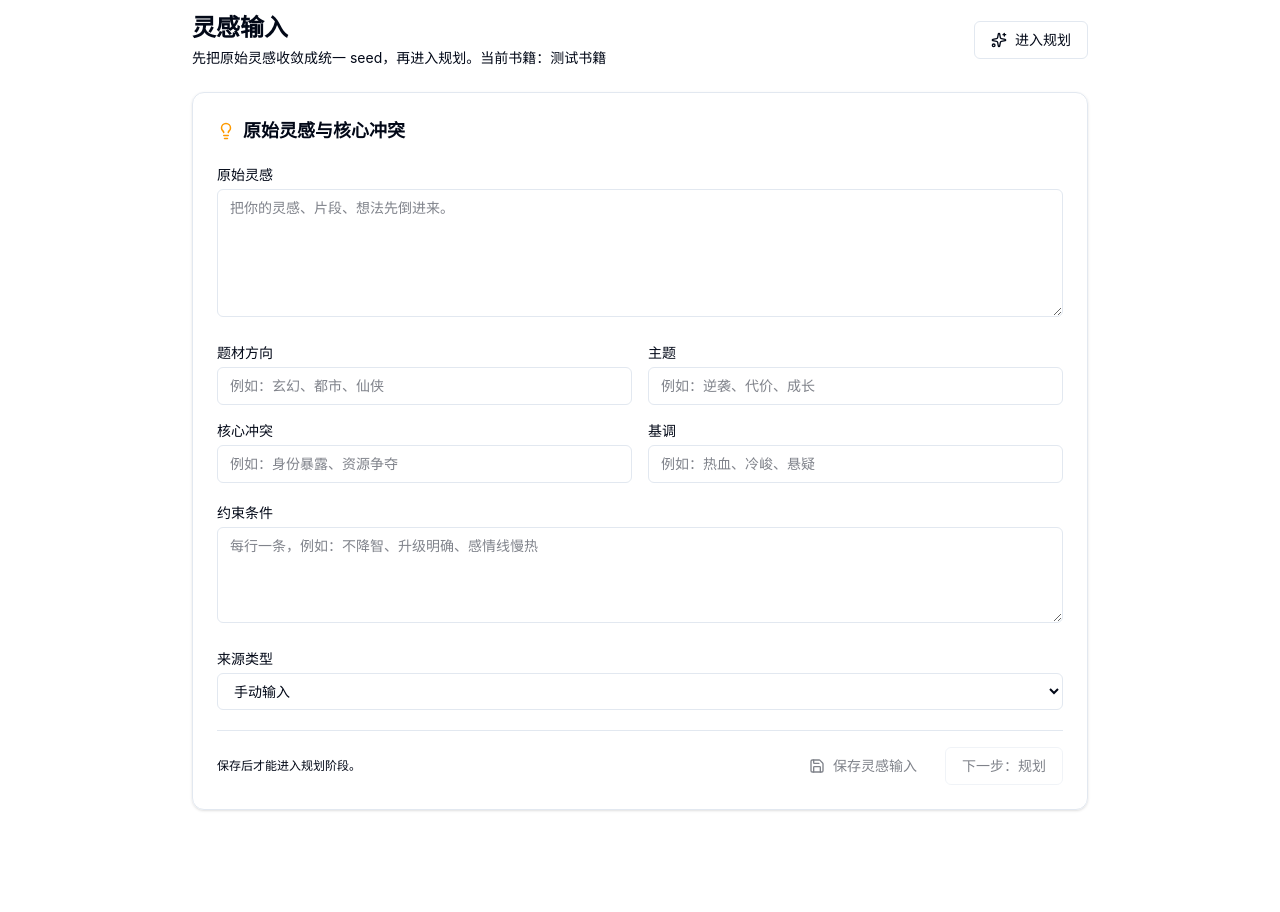
it: InspirationInput Page › creates inspiration seed and enables next step
Type "宗门天才暴露血脉" into the text box labelled "原始灵感".
click(640, 253); type("宗门天才暴露血脉")  # box [217,189,1063,317]
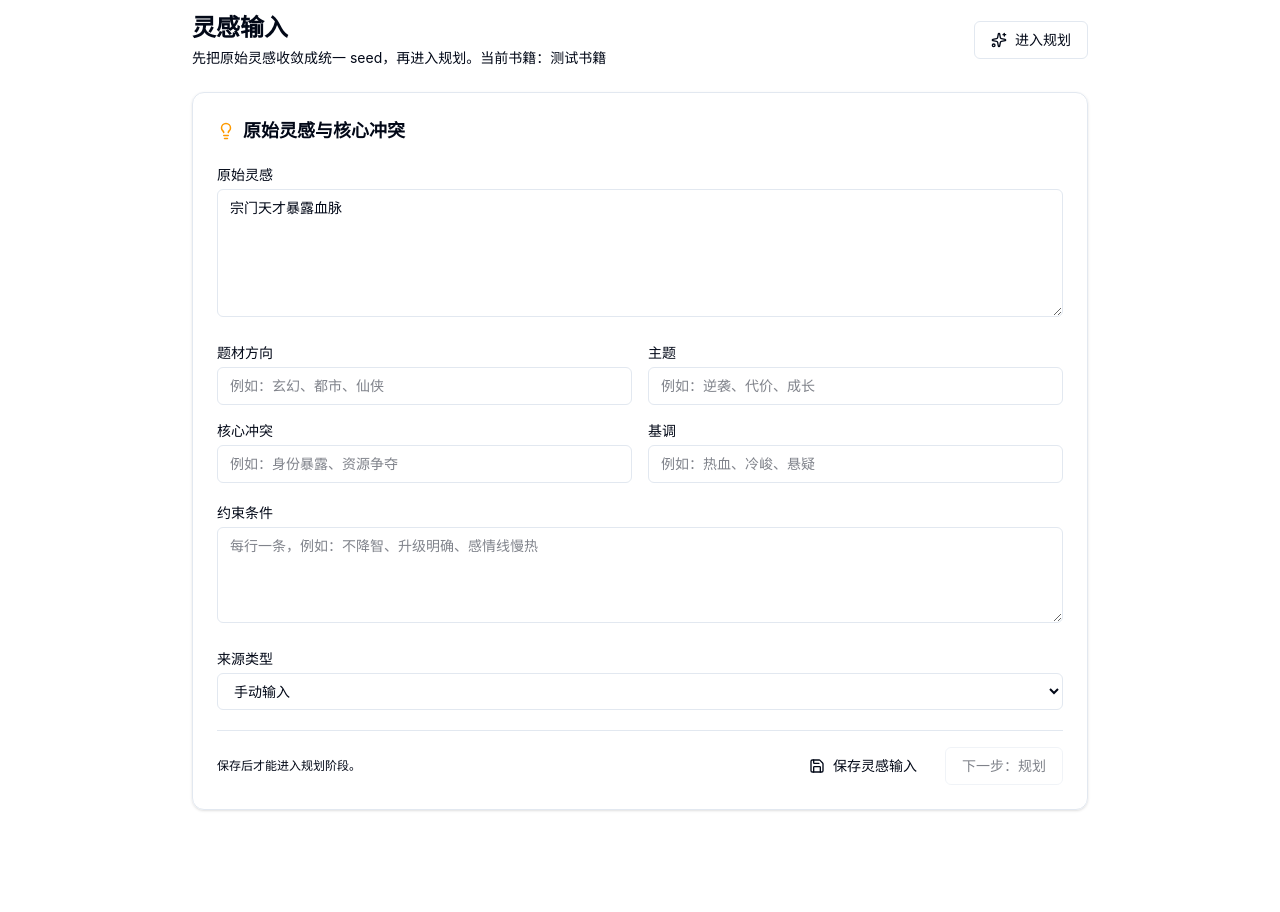
Type "玄幻" into the field labelled "题材方向".
click(424, 386); type("玄幻")  # box [217,367,632,405]
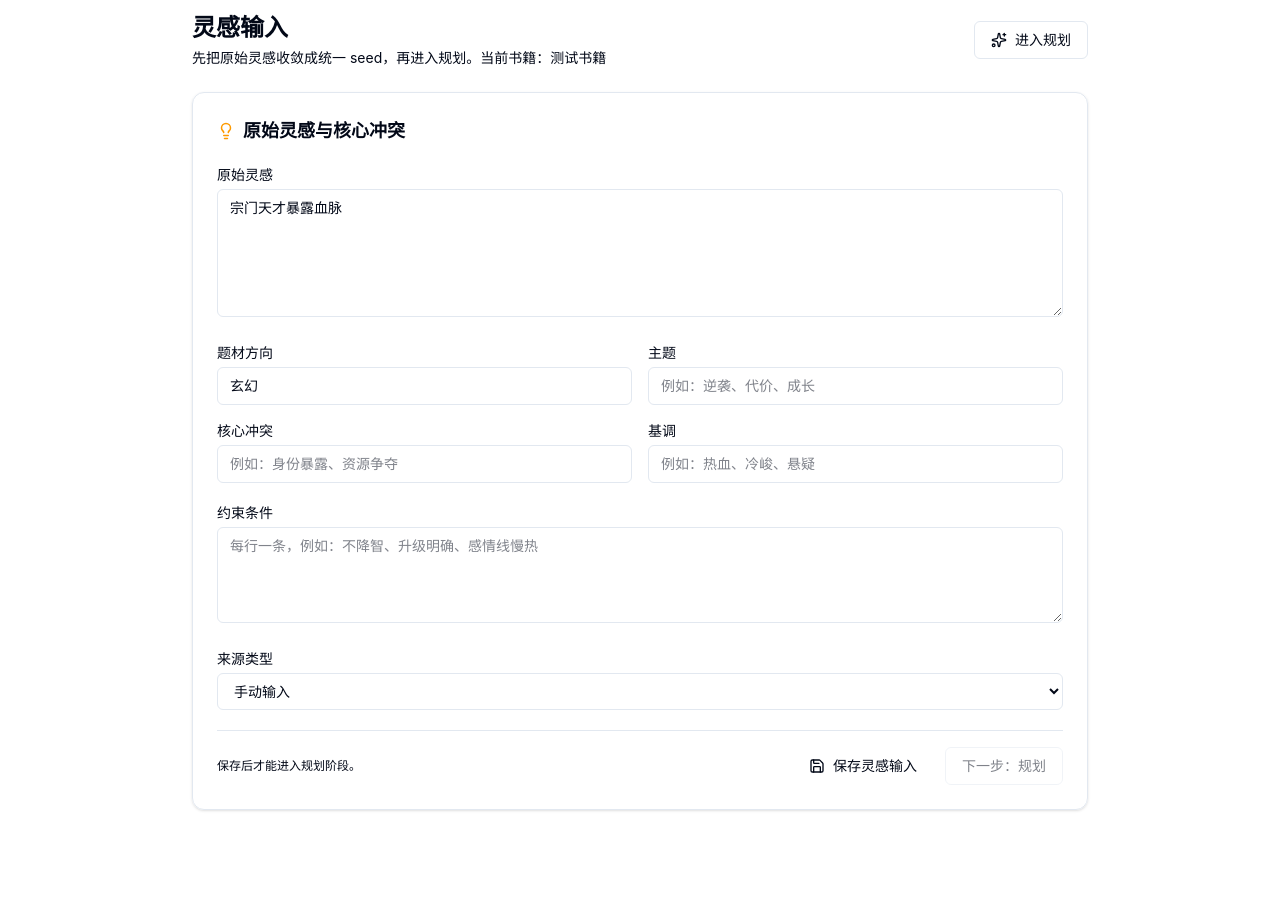
Click the button "保存灵感输入".
click(863, 766)  # box [793,747,933,785]
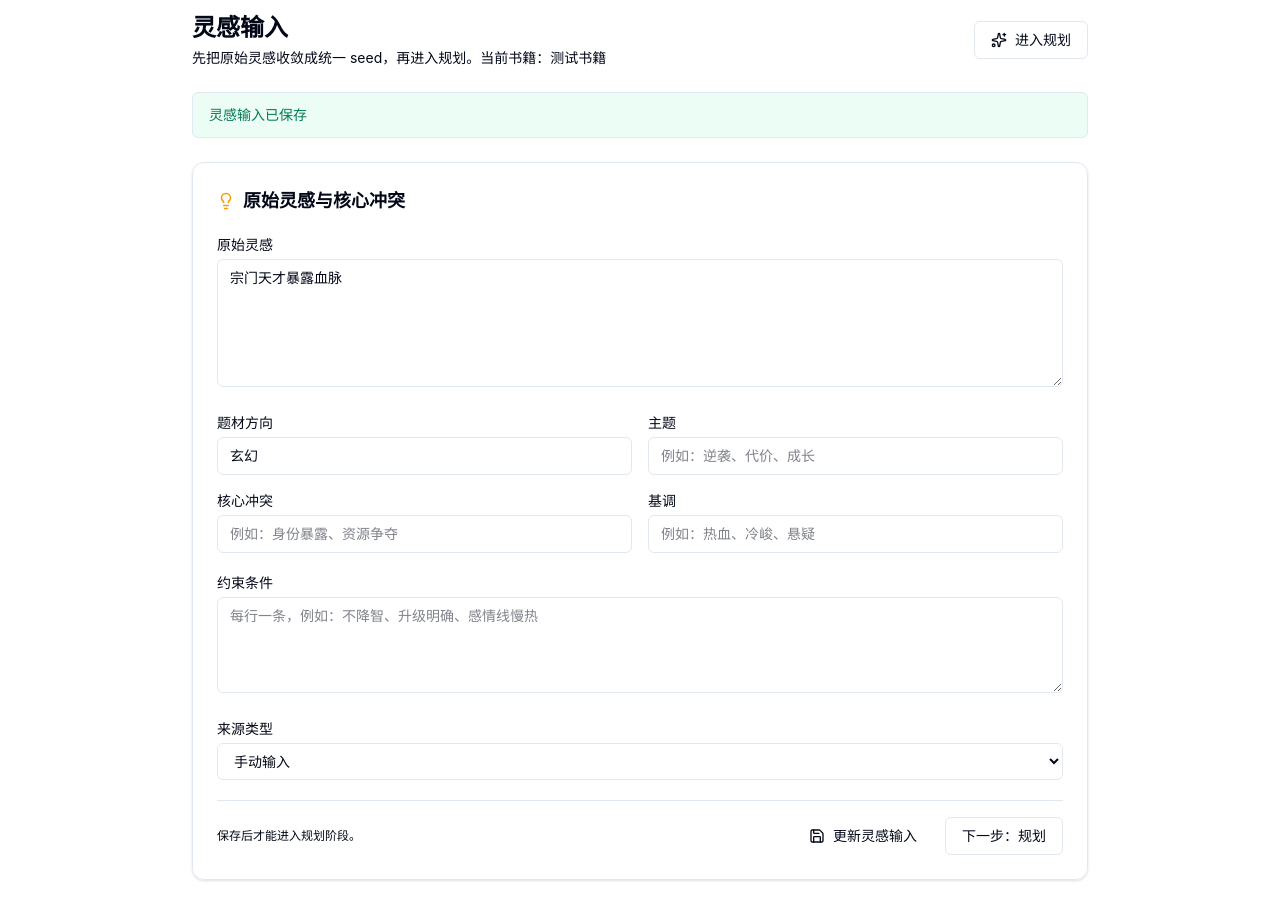
Expected: the text "灵感输入已保存" is shown, [192,92,1088,138]
